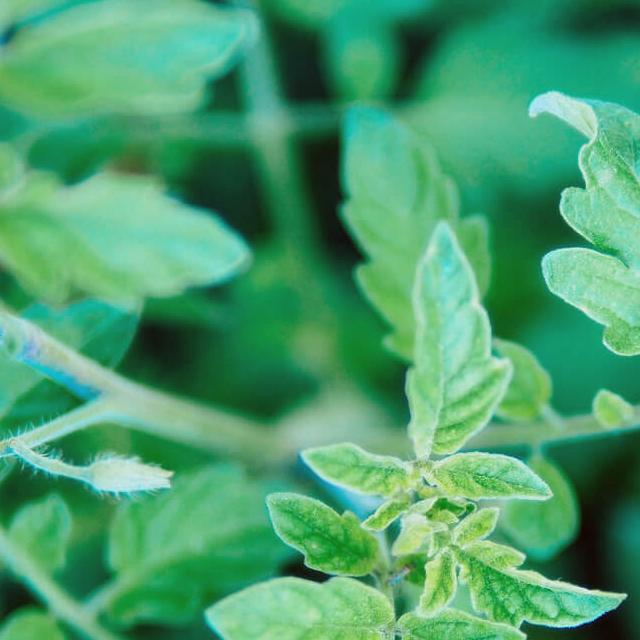Tomato leaf: (529, 67, 640, 382), (397, 220, 509, 473), (203, 571, 392, 640), (384, 608, 614, 640), (333, 633, 463, 640)
